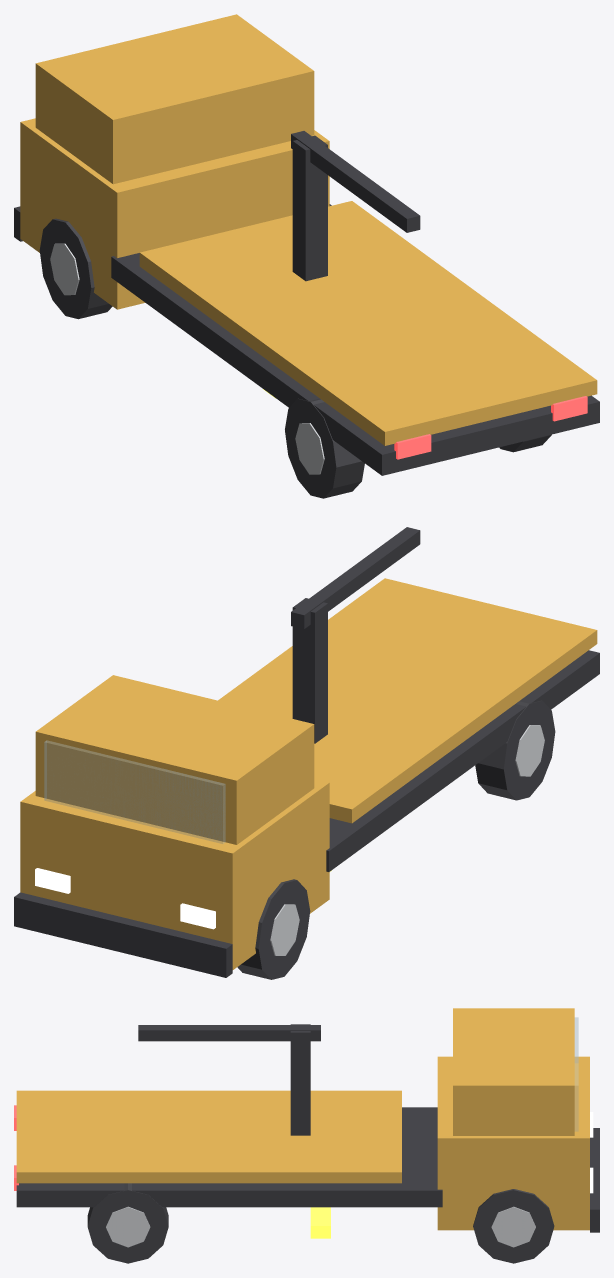
File: tow_truck.glb
3 renders of one model, top to bottom at view 1: azimuth 30°, elevation 25°; view 2: azimuth 150°, elevation 25°; view 3: azimuth 270°, elevation 25°, orthographic. The views are drawn at different scales.
Visible parts, largest first — view 1: body, wheel_rl, wheel_fl; view 2: body, wheel_rl, wheel_fl; view 3: body, wheel_rr, wheel_fr, bar_amber.
Boxes of the visible parts, bbox=[...] form: body: bbox=[14, 14, 599, 475]; wheel_rl: bbox=[285, 398, 364, 498]; wheel_fl: bbox=[39, 218, 112, 319]; body: bbox=[14, 527, 599, 977]; wheel_rl: bbox=[475, 700, 555, 800]; wheel_fl: bbox=[237, 879, 310, 979]; body: bbox=[14, 1008, 599, 1232]; wheel_rr: bbox=[87, 1183, 168, 1263]; wheel_fr: bbox=[473, 1189, 554, 1263]; bar_amber: bbox=[310, 1207, 330, 1238].
Bounding box in the file's own units: 1.98 × 2.18 × 5.78.
